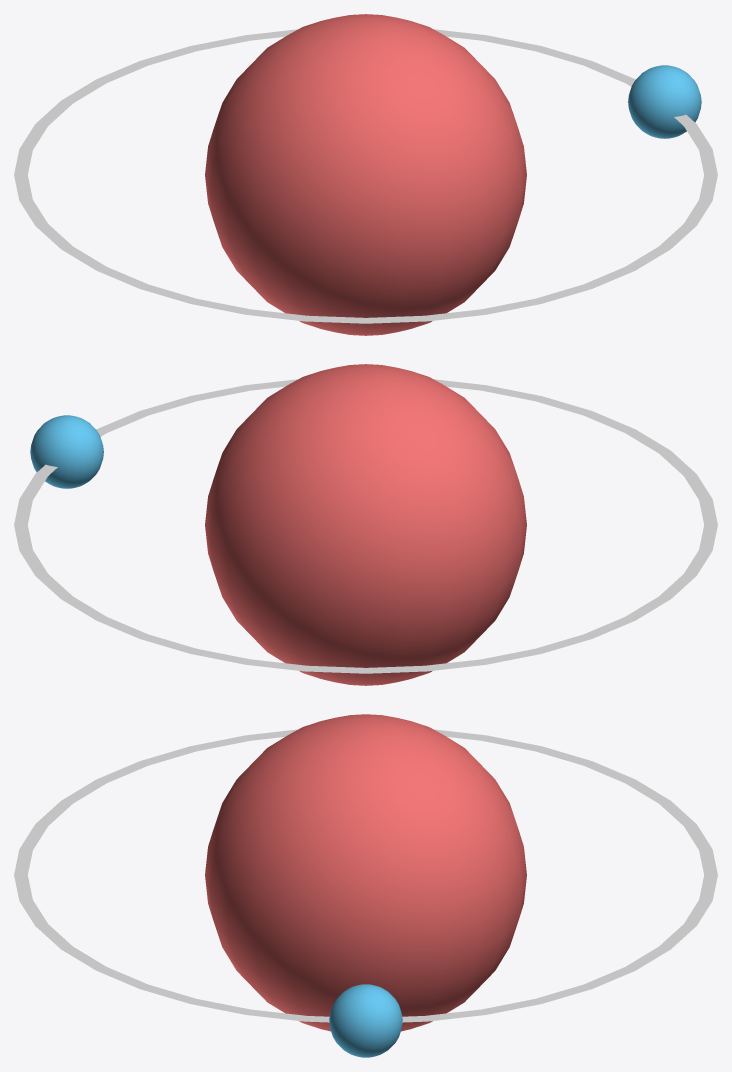
File: hydrogen_atom.glb
The picture shows the model from 3 angles, top to bottom: view 1: azimuth 30°, elevation 25°; view 2: azimuth 150°, elevation 25°; view 3: azimuth 270°, elevation 25°; orthographic projection.
Parts seen in each view (by area): view 1: nucleus_node, shell_ring_0, electron_node_0_0; view 2: nucleus_node, shell_ring_0, electron_node_0_0; view 3: nucleus_node, shell_ring_0, electron_node_0_0.
Part boxes in pixels (box(x1,y1,x2,y2)): nucleus_node: box(205, 14, 526, 335); shell_ring_0: box(14, 29, 717, 323); electron_node_0_0: box(628, 65, 701, 138); nucleus_node: box(205, 364, 526, 685); shell_ring_0: box(14, 379, 717, 673); electron_node_0_0: box(30, 415, 103, 488); nucleus_node: box(205, 714, 526, 1031); shell_ring_0: box(14, 729, 717, 1022); electron_node_0_0: box(329, 984, 402, 1057).
Size of the model in its own units: 1.59 by 0.7 by 1.53.
